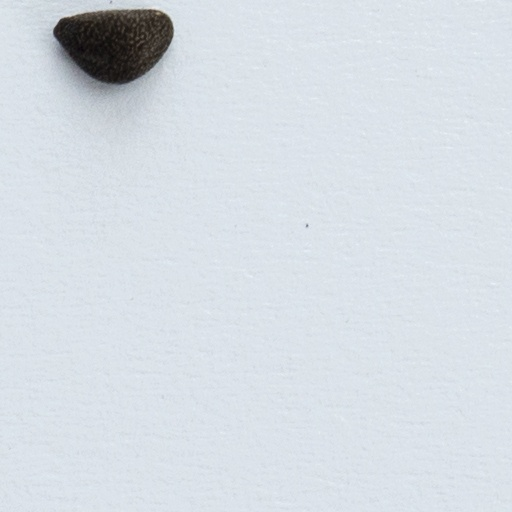Convolvulus-poly: (49, 7, 176, 89)
